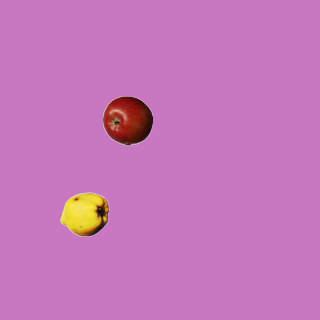Apple Braeburn: (102, 95, 152, 145)
Quince: (59, 189, 109, 239)
